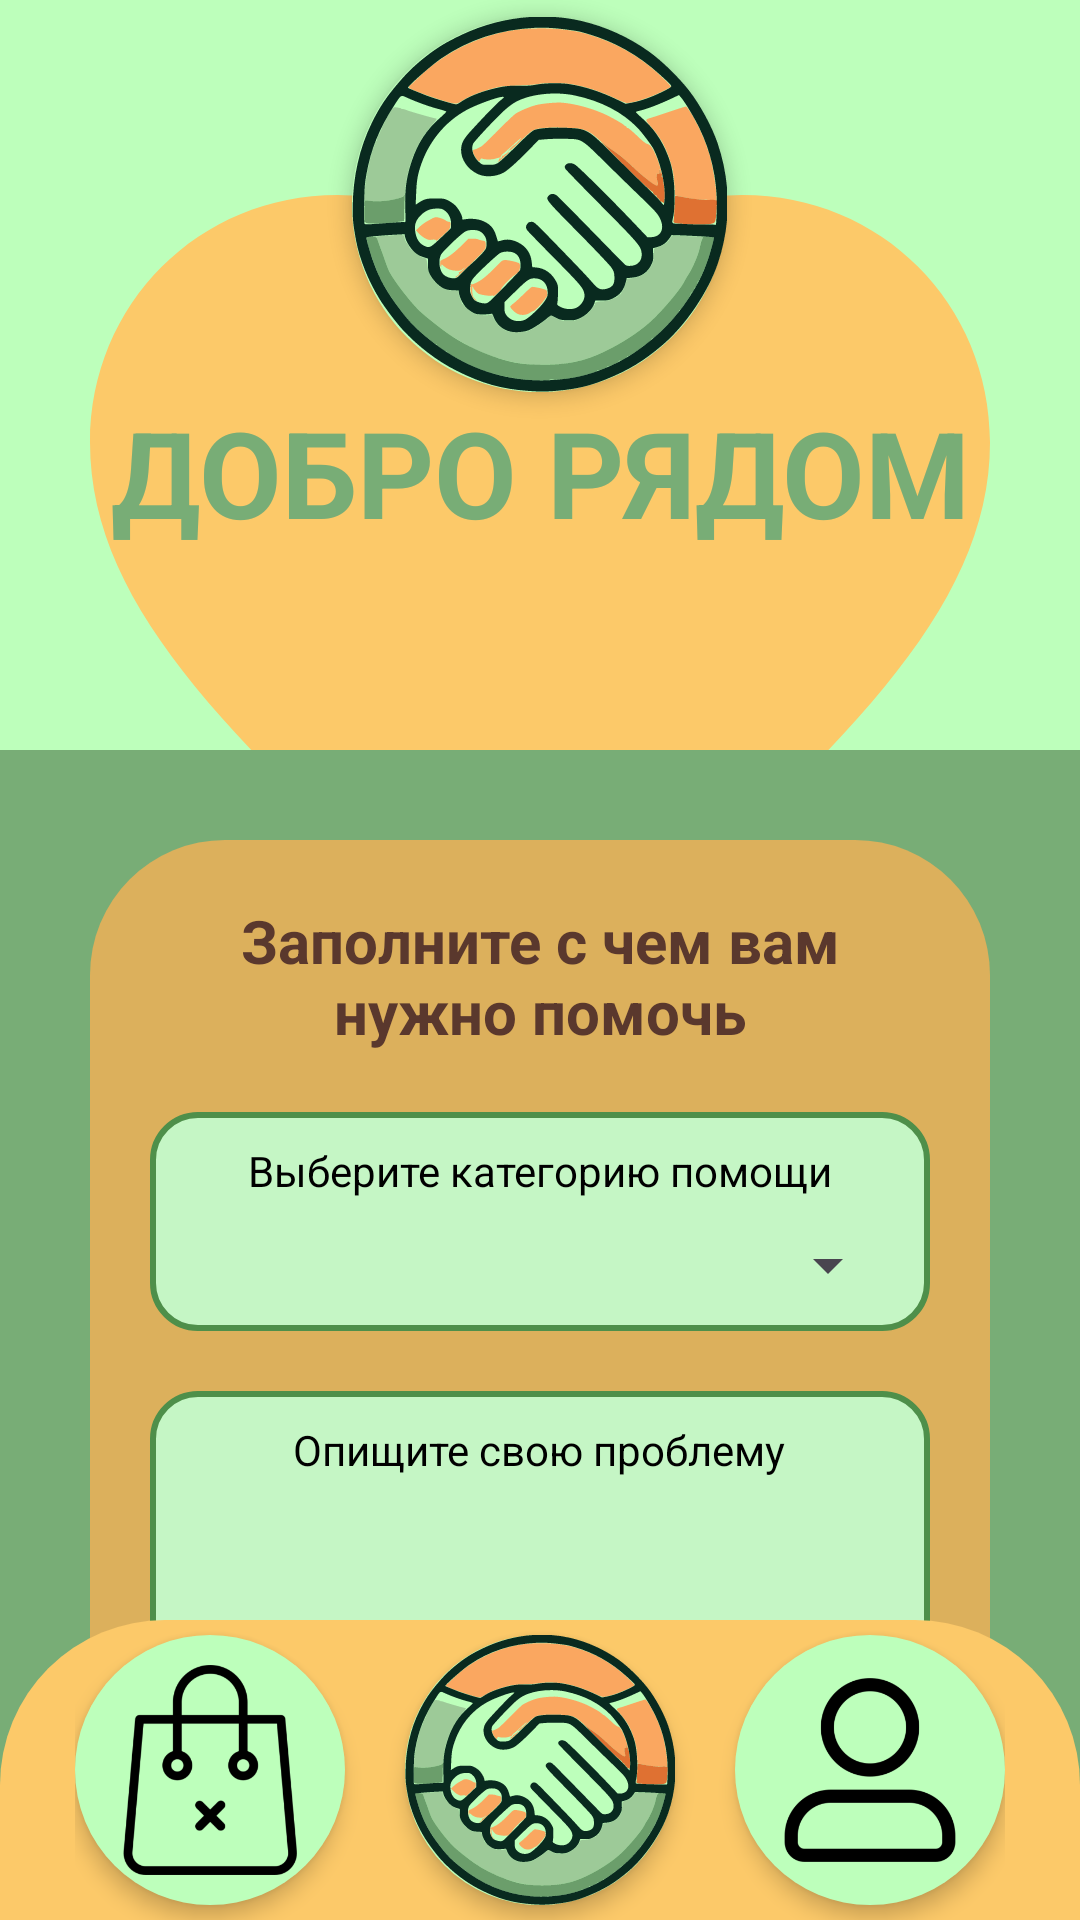

Icons on this 1080 × 1920 Android screen, each with the point to tap as [x,y]:
prof: [870,1770]
shop: [210,1770]
